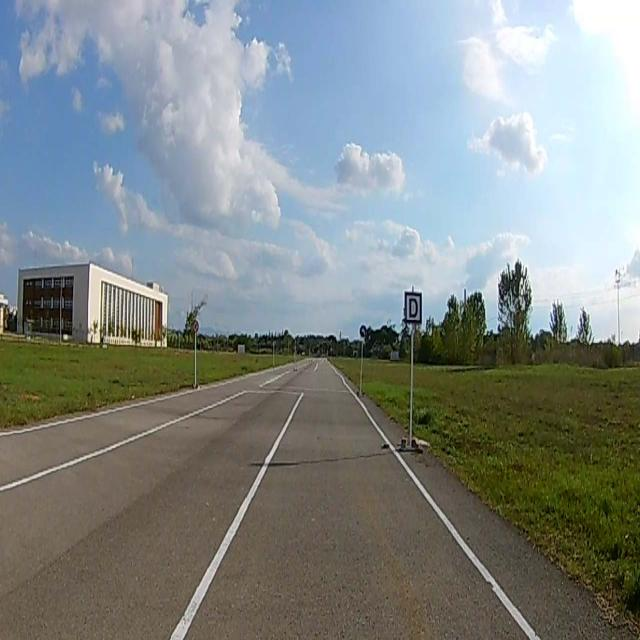durak: (405, 292, 422, 324)
